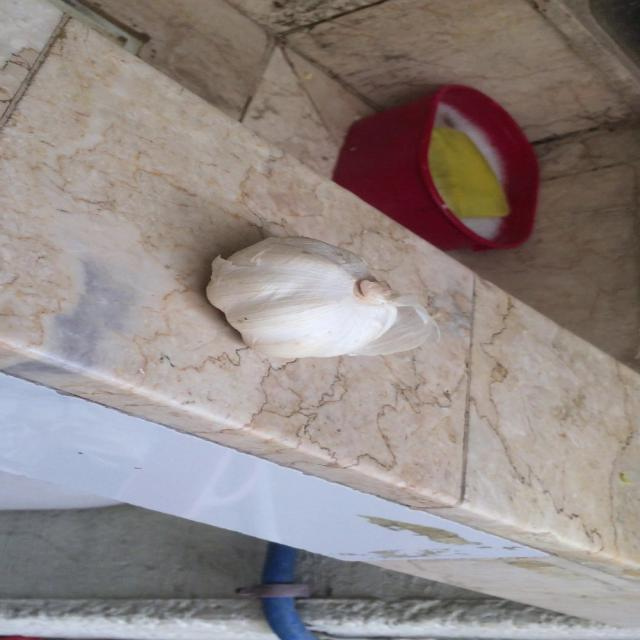garlic: (201, 232, 404, 361)
